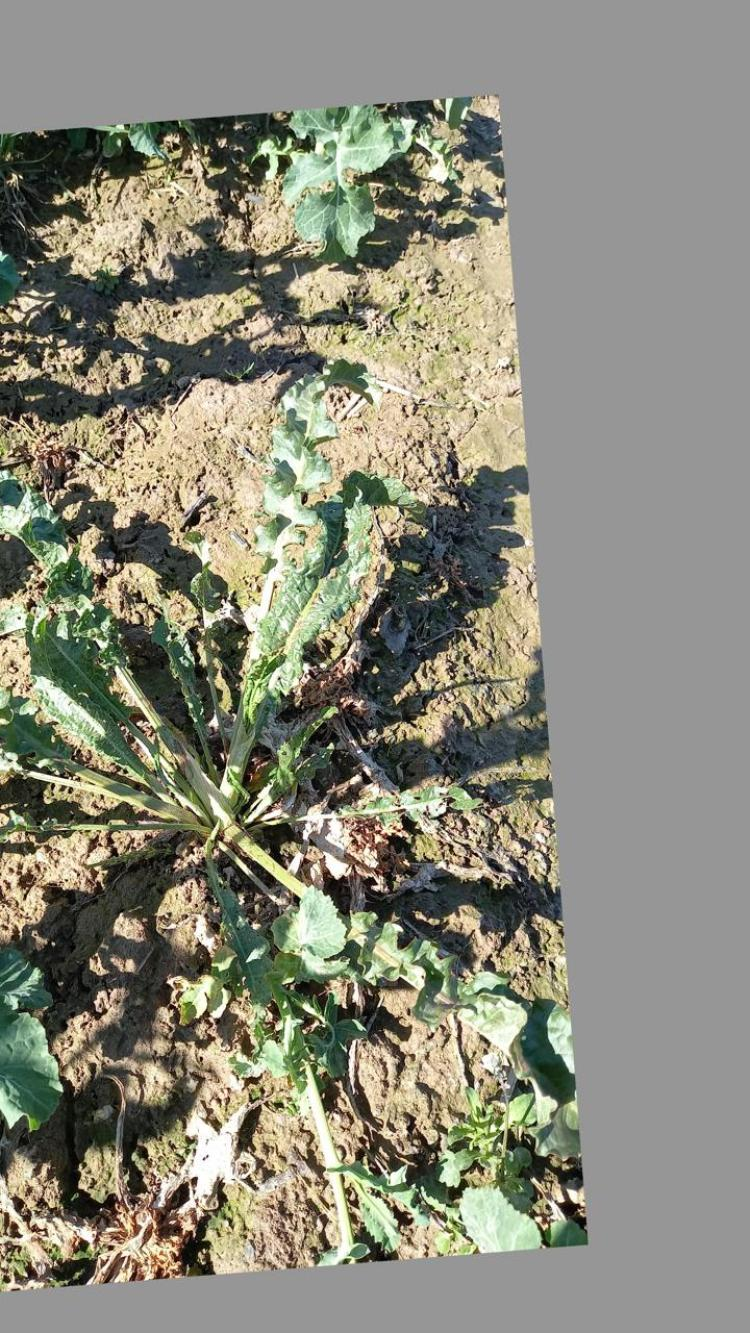zhavel: (14, 369, 496, 1266)
